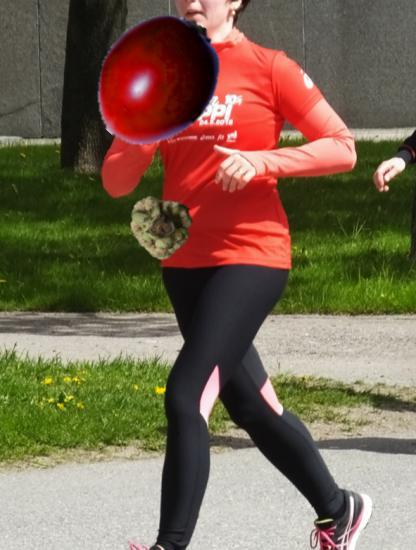Cauliflower: (128, 190, 193, 255)
Tamarillo: (86, 9, 229, 152)
